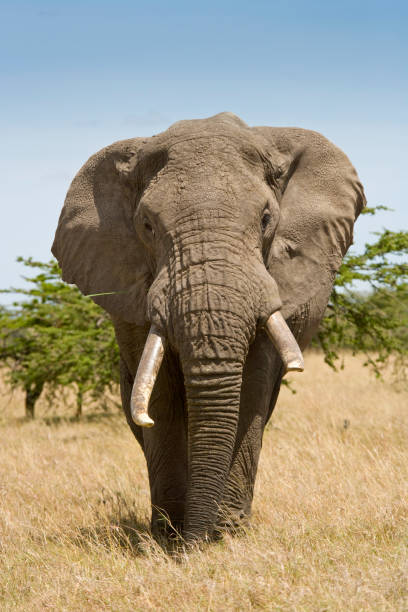africanelephant: (106, 119, 311, 430)
